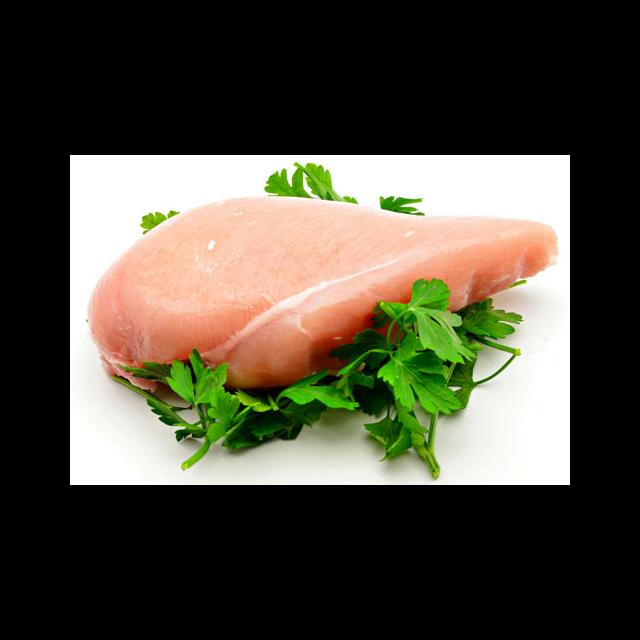chicken: (87, 194, 559, 388)
